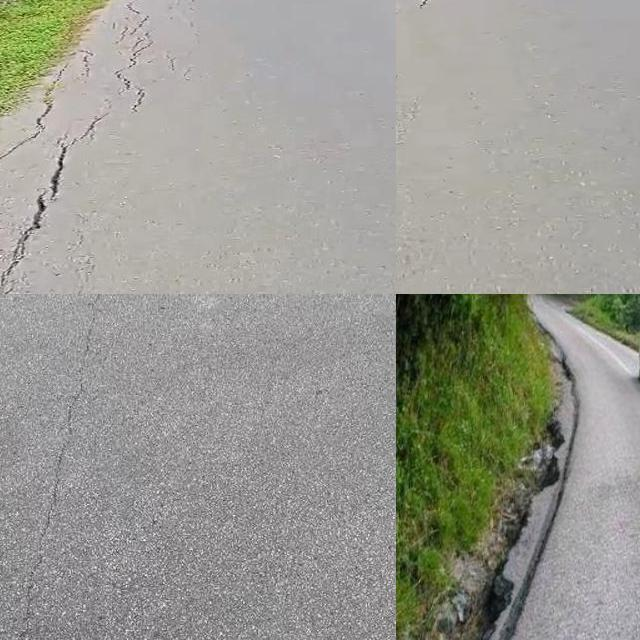Memanjang: (6, 294, 120, 640), (0, 145, 98, 294)
Pinggir: (423, 372, 589, 640)
